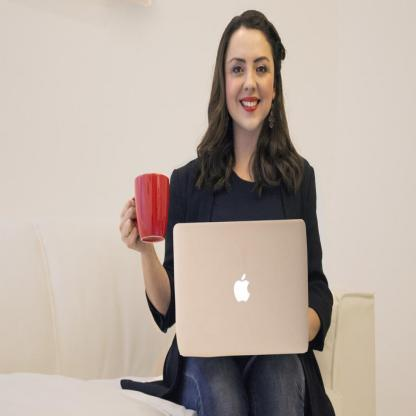board: (176, 207, 318, 372)
